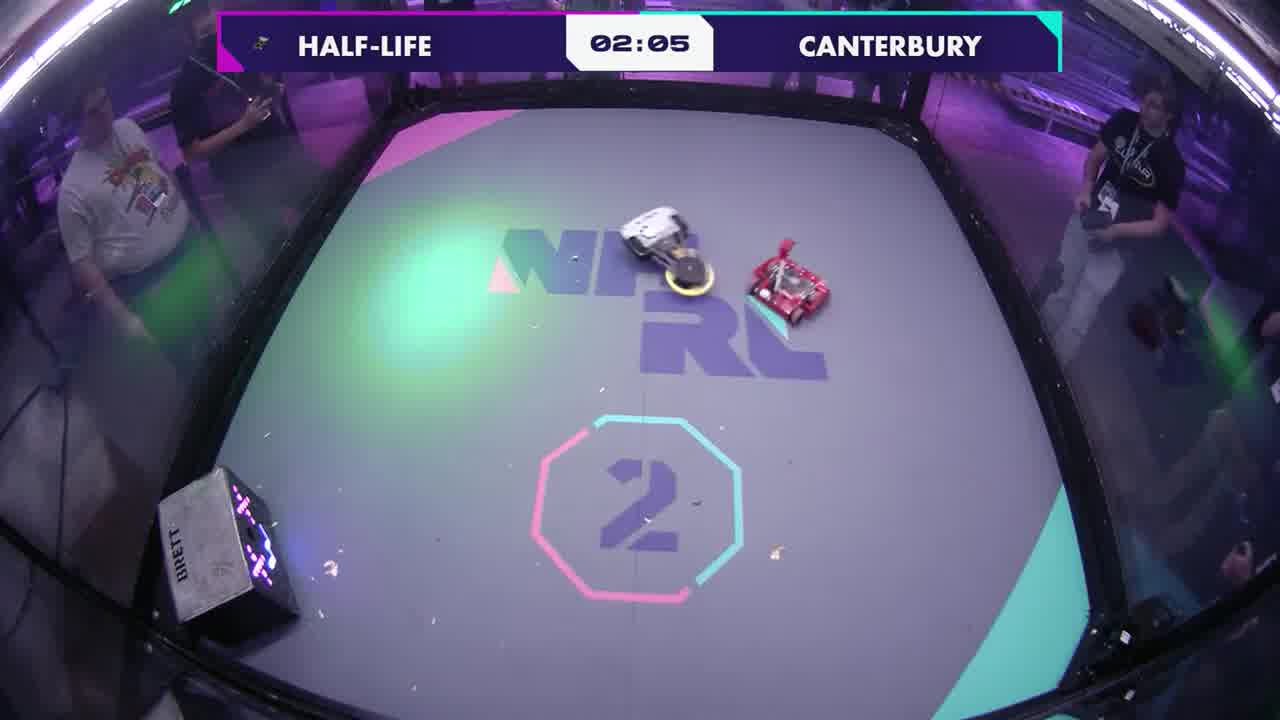combatbot: (618, 206, 717, 302), (745, 236, 833, 327)
housebot: (154, 467, 301, 640)
